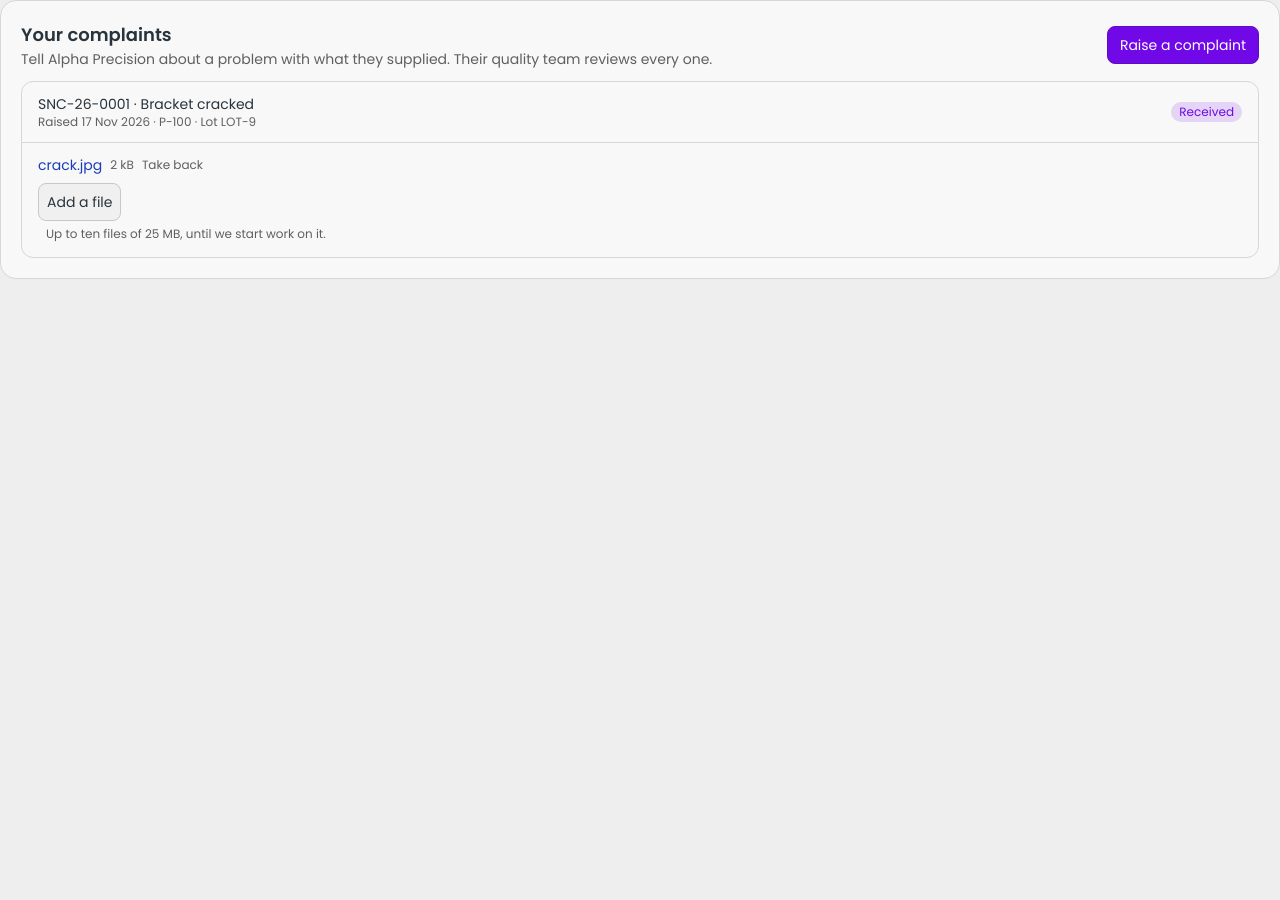
complaints in the portal › asks for a title and a description before sending
Click the button "Raise a complaint": (1183, 45) [1107, 26, 1259, 64]
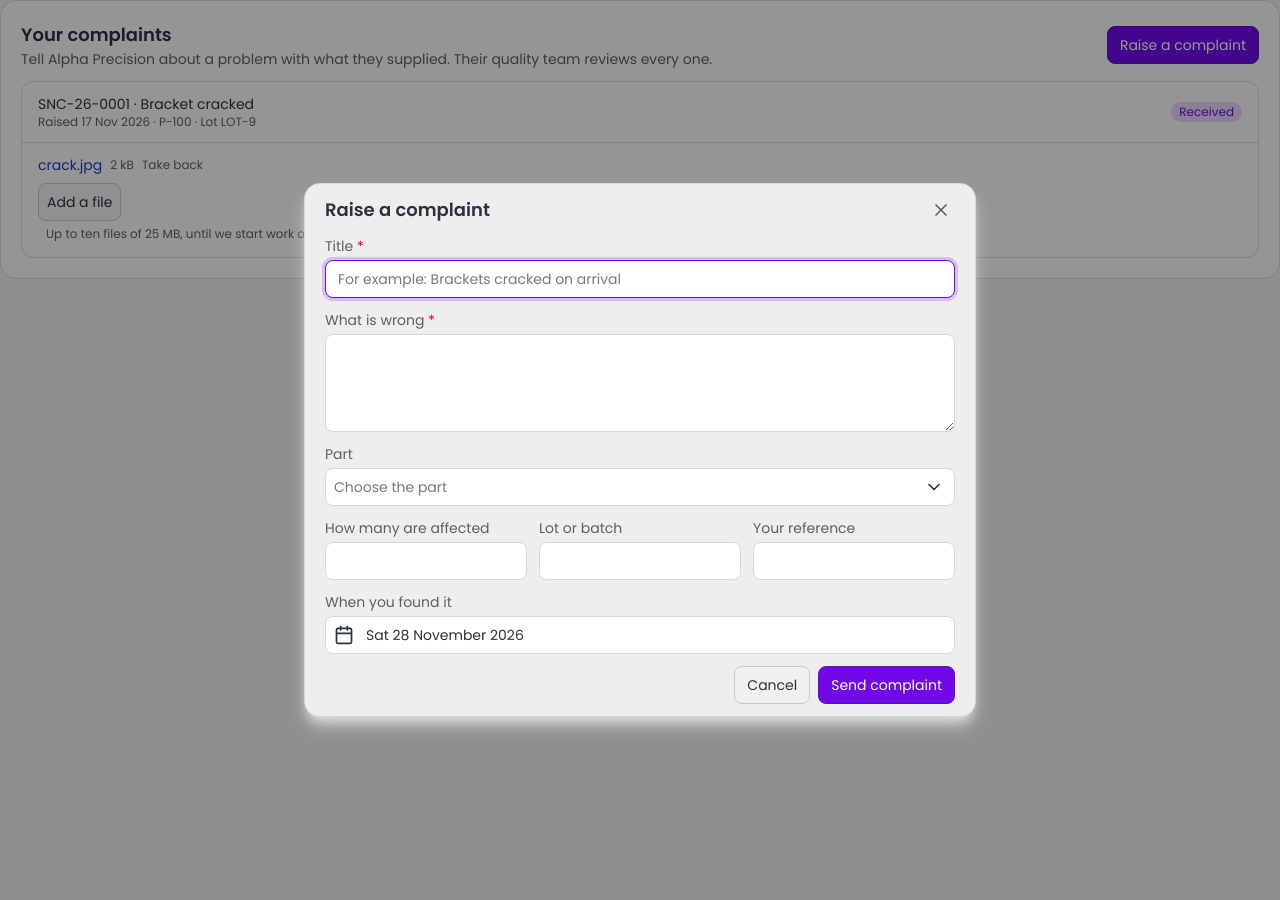
Click the button "Send complaint": (887, 685) [818, 666, 955, 704]
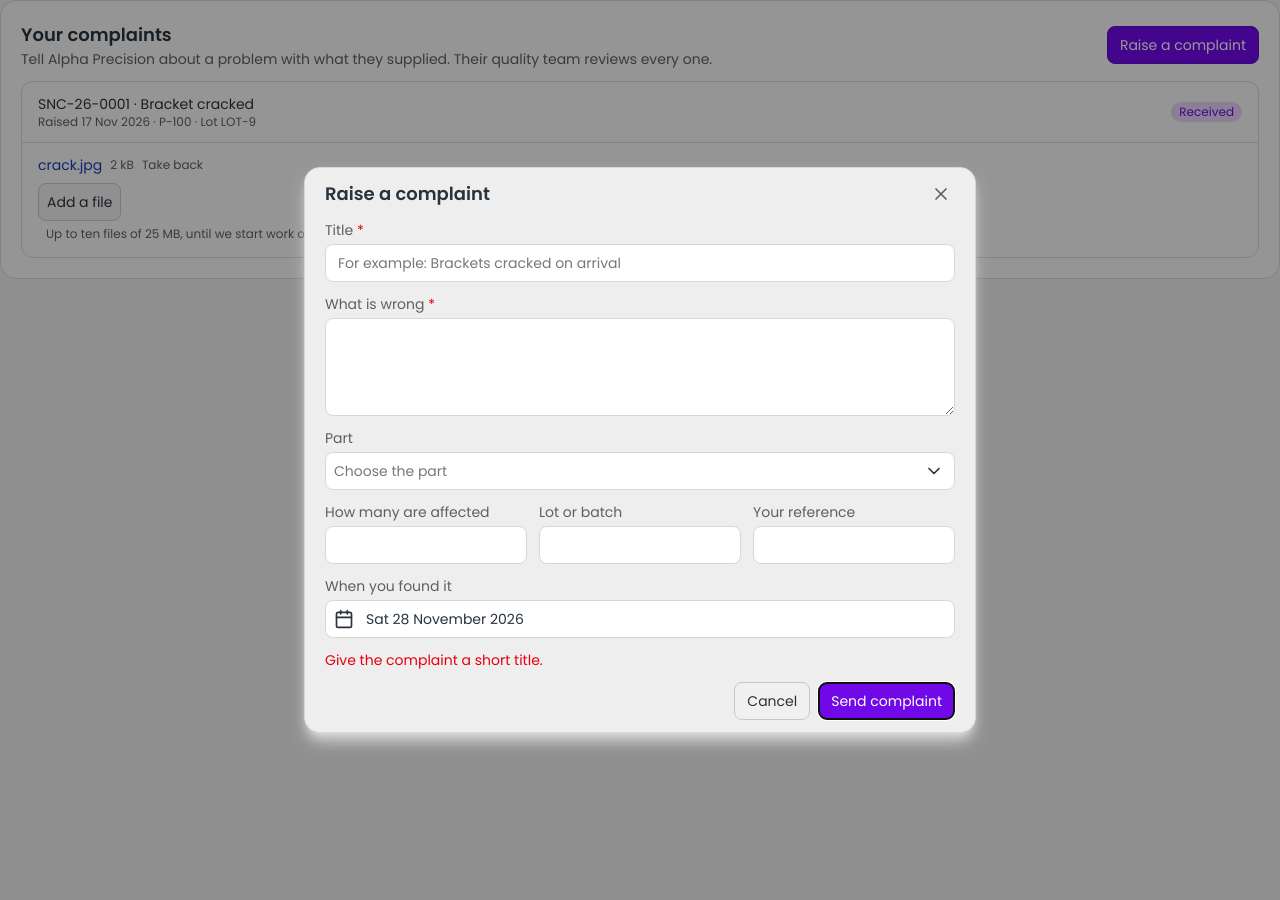
Expected: the text "Give the complaint a short title." is shown, [325, 650, 543, 670]
